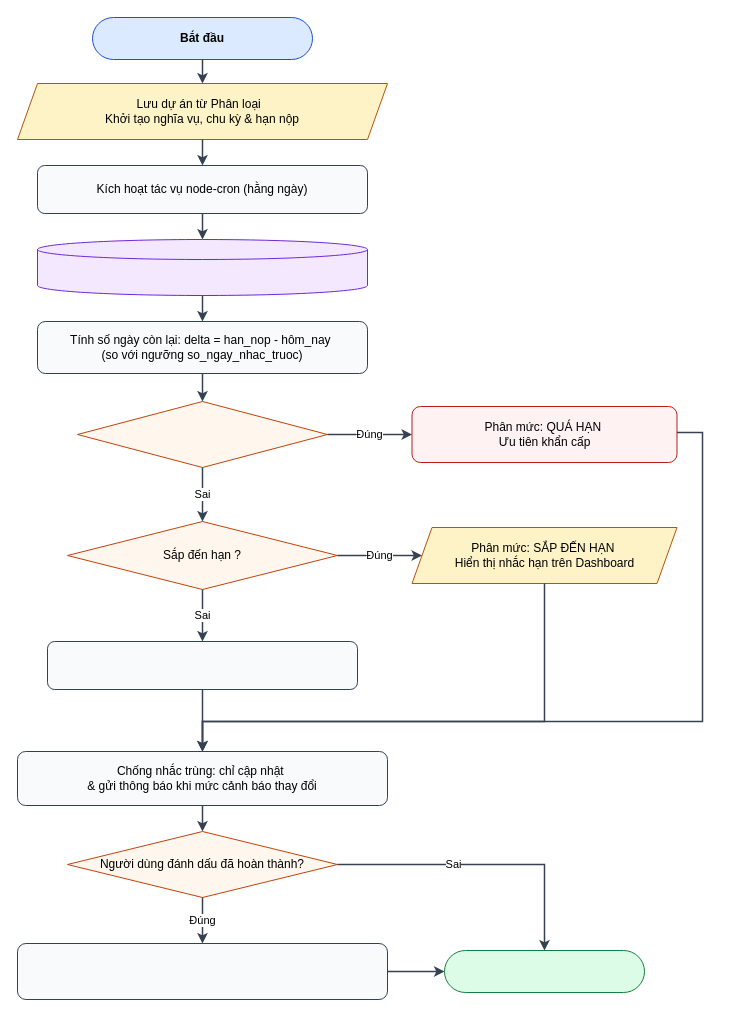
Image size: 729x1017. Some labels were removed from this diagram. Here are the shapes that lost their labels. From the top down, the centre of each, then its label:
the point at 202,267: Đọc các nghĩa vụ chưa hoàn thành
the point at 202,434: delta < 0 (Đã quá hạn)?
the point at 202,665: Phân mức: TRONG HẠN
the point at 202,971: Lưu hoàn thành & tự động cộng chu kỳ để tạo kỳ nghĩa vụ tiếp theo (nếu lặp lại)
the point at 544,971: Kết thúc
